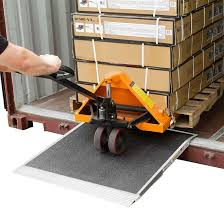Pallet Jack: (41, 54, 224, 154)
